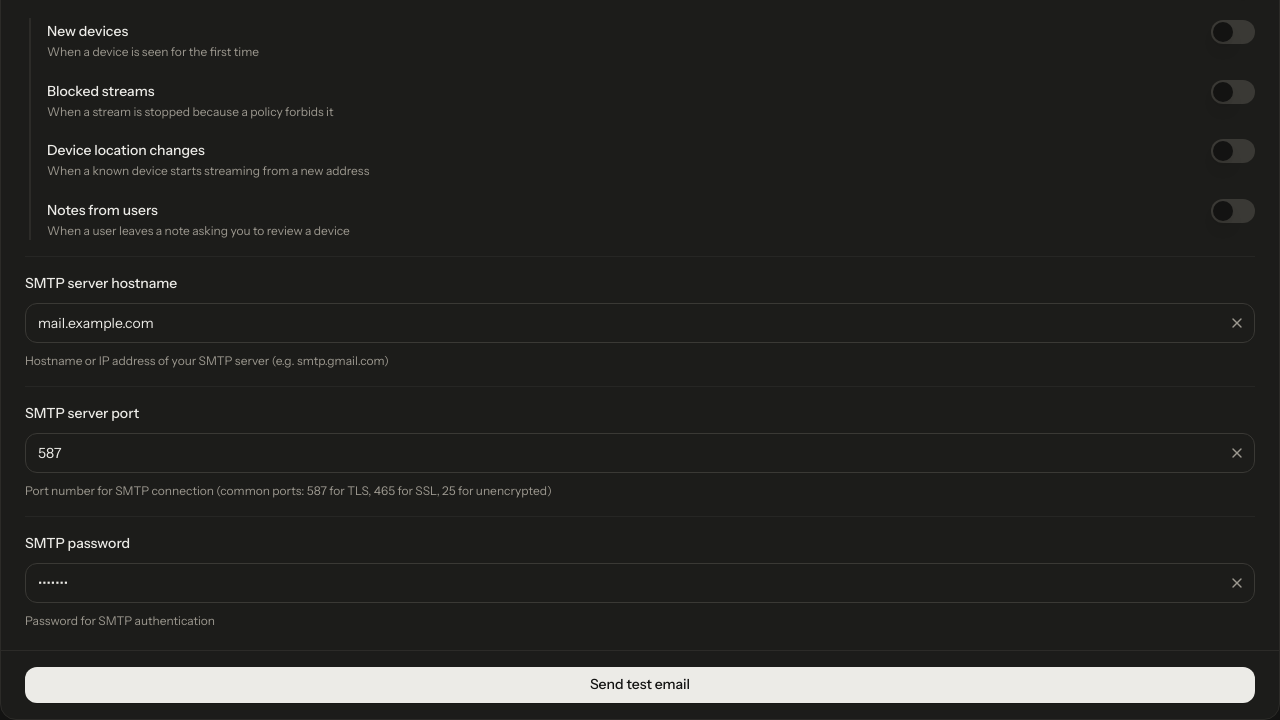
Test case: SMTPSettings › sending a test email › reports success
The image size is (1280, 720).
(page scrolled)
Click the button "Send test email".
click(640, 685)  # box [25, 667, 1255, 703]
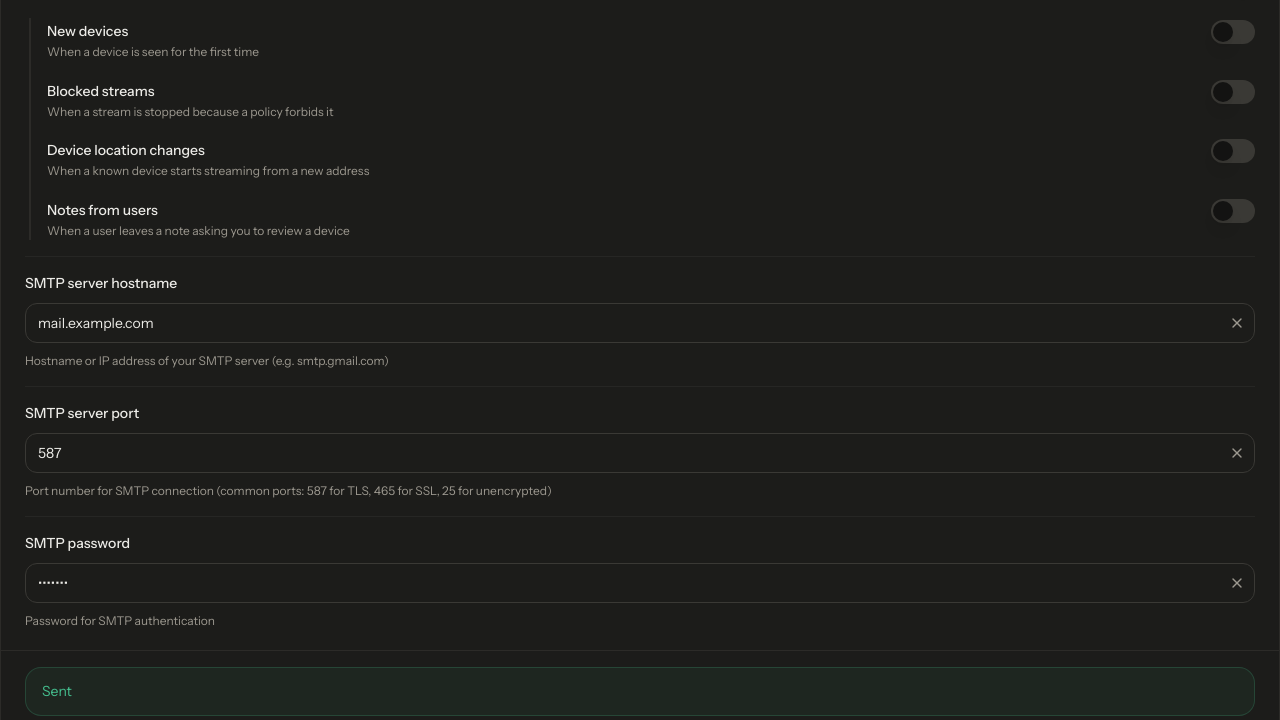
Expected: the text "Sent" is shown, [42, 682, 72, 700]
